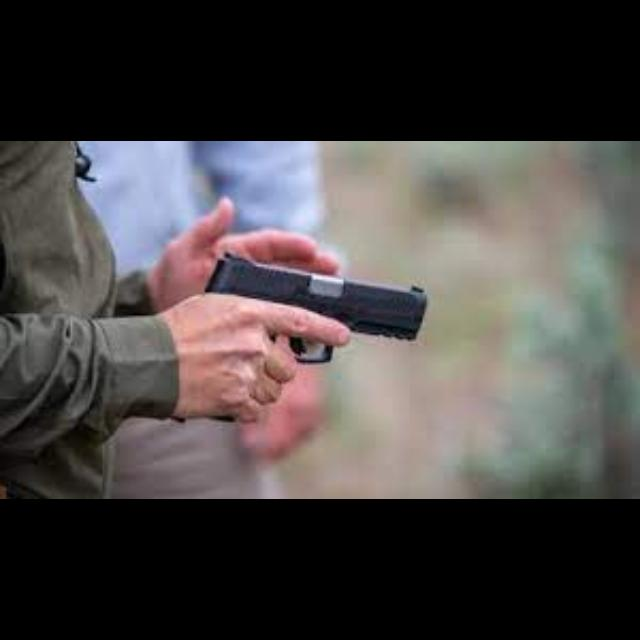handgun: (201, 248, 431, 366)
